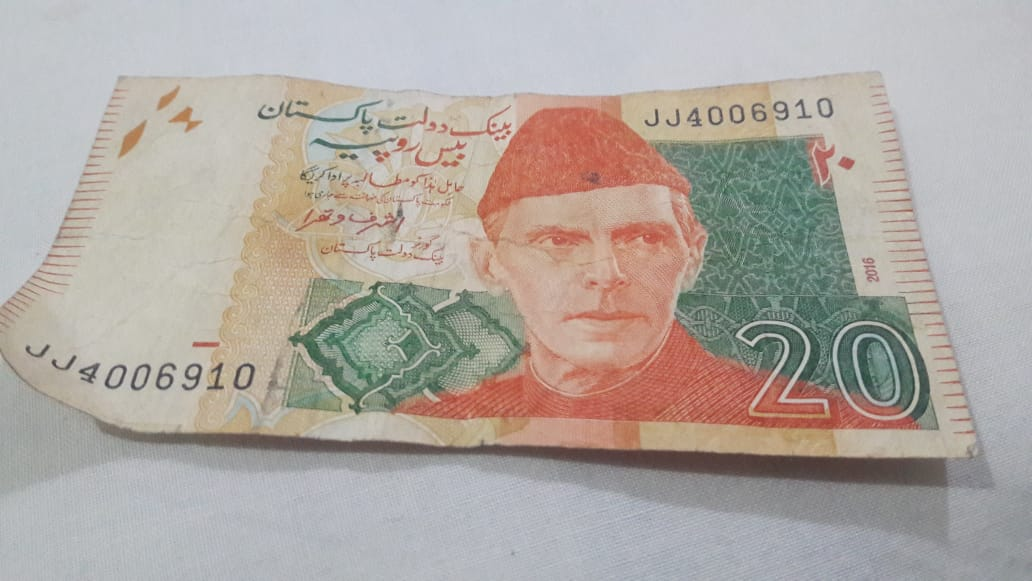20 rupee: (17, 53, 989, 479)
